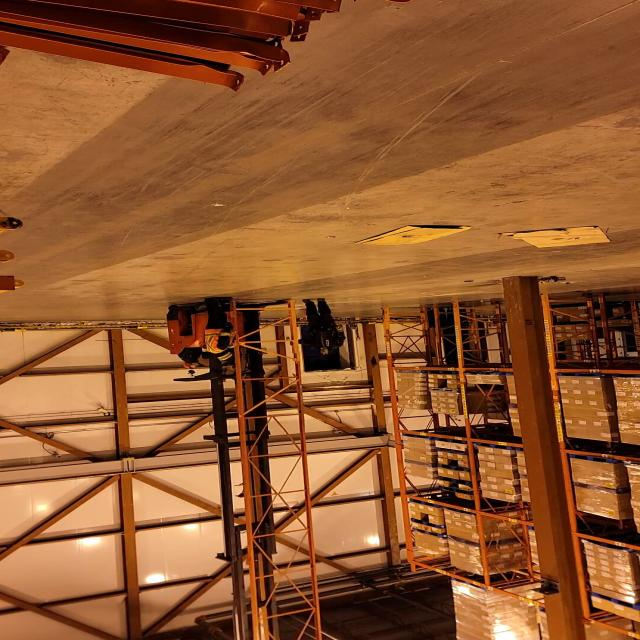forklift: (163, 297, 292, 443)
human: (196, 295, 252, 364), (292, 296, 348, 361), (169, 349, 204, 369)
objectofinterest: (231, 296, 300, 622), (499, 222, 616, 252), (356, 223, 477, 250)
